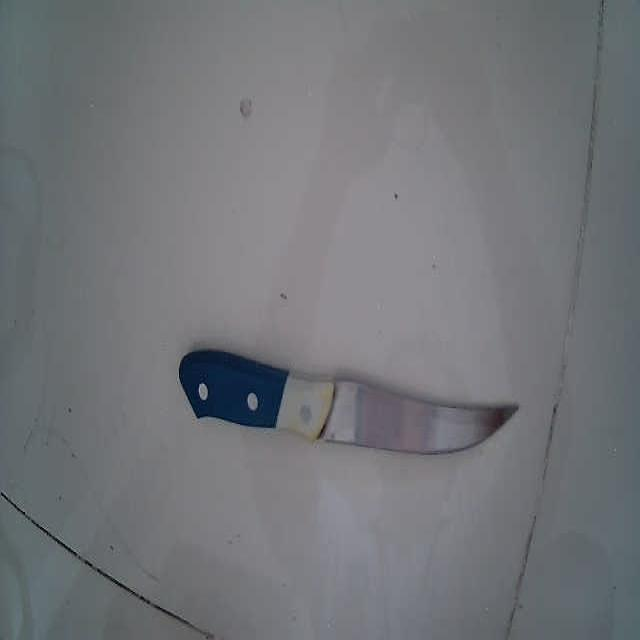knife: (177, 348, 520, 457)
